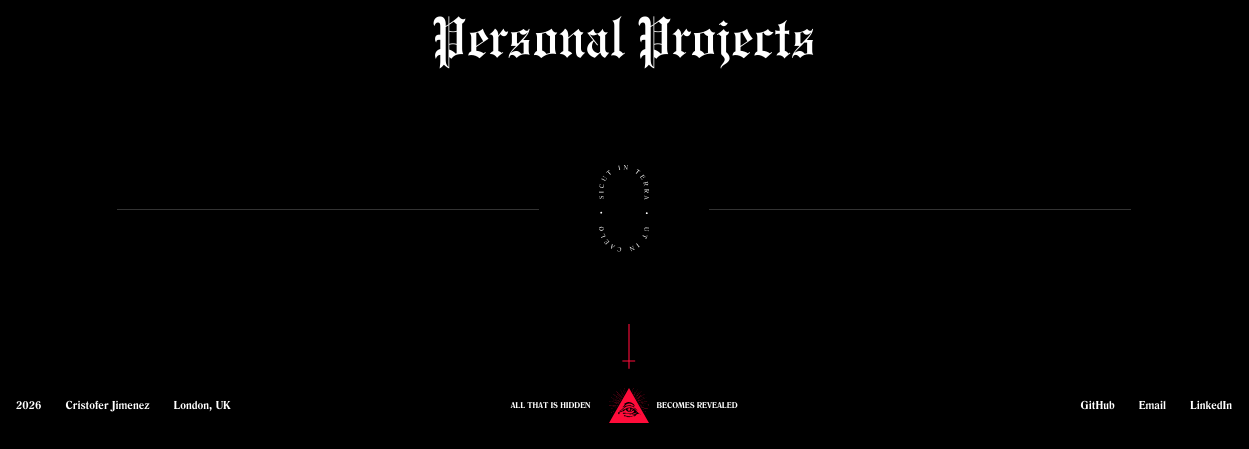
portfolio interactions › starts with the angel and keeps the artwork and light controls mutually exclusive
Click the button named "Toggle light theme" at (624, 209), box [117, 165, 1131, 252]
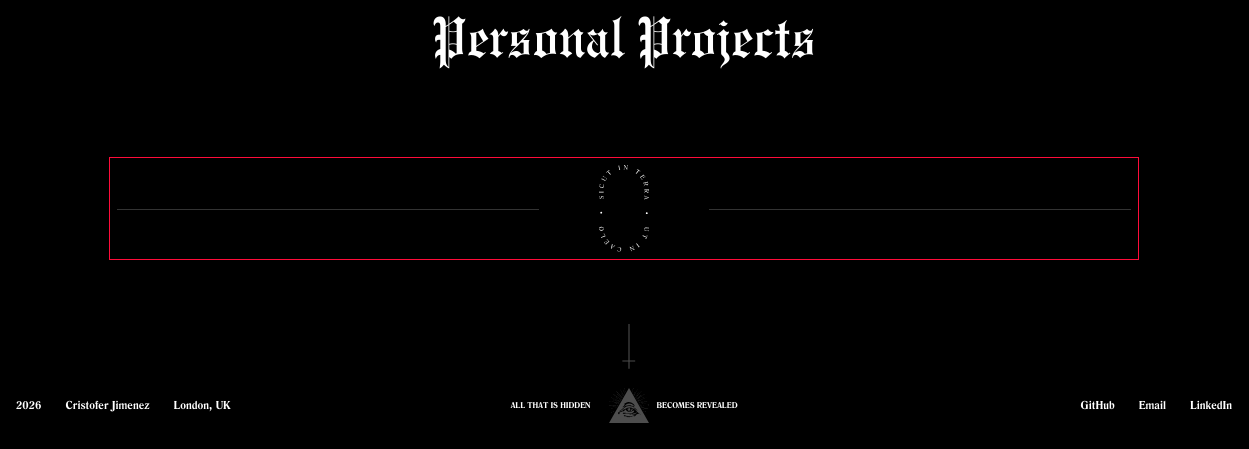
Expected: the button named "Toggle alternate artwork" is not pressed
Click the button named "Toggle alternate artwork" at (628, 406), box [608, 388, 648, 424]
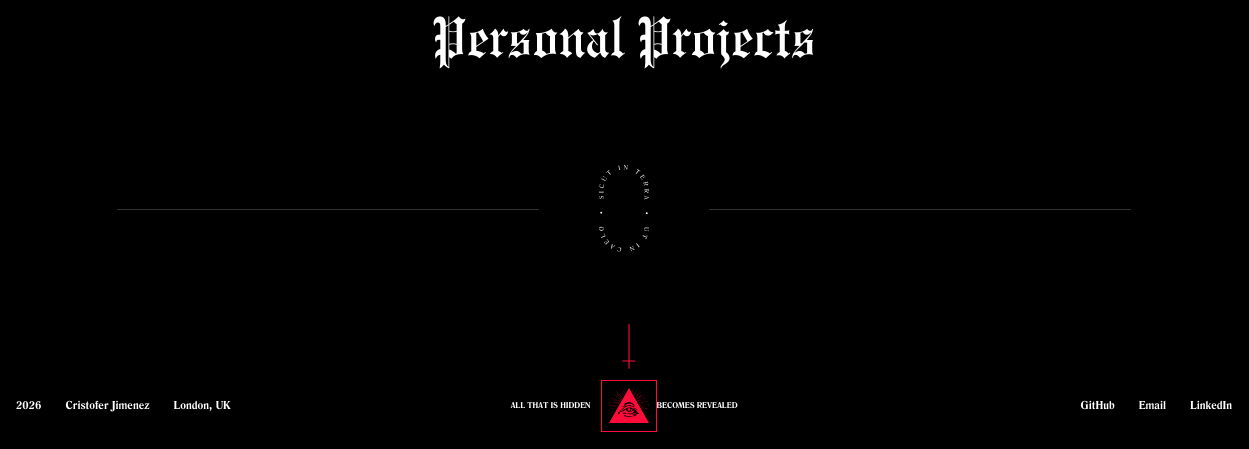
Expected: the button named "Toggle alternate artwork" is pressed, [608, 388, 648, 424]
Press Enter
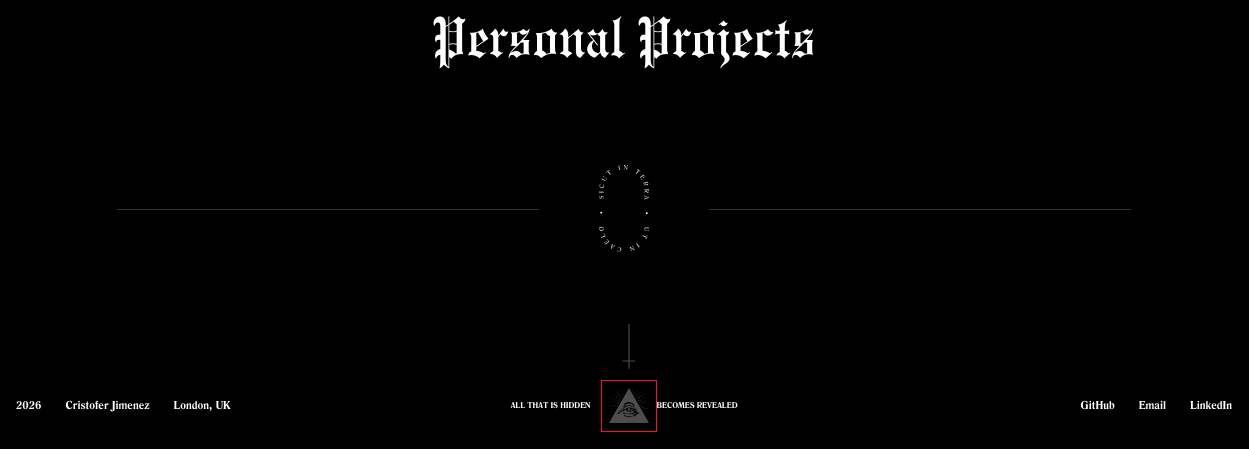
Expected: the button named "Toggle alternate artwork" is not pressed, [608, 388, 648, 424]
